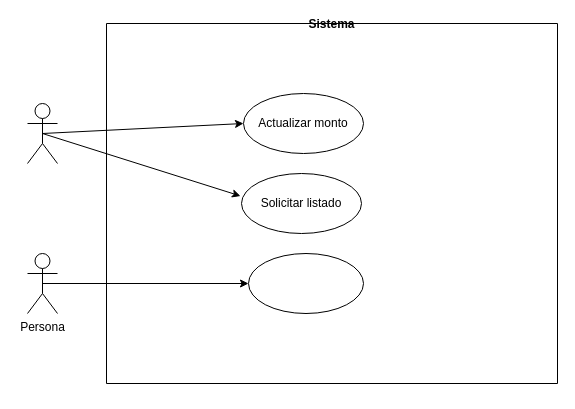
Image size: 575x409. Some labels were removed from this diagram. The shapes that lost their labels are listed below. From the top down, each one's centre as x and y in pixels, then its label:
At [42,133]: "Operador".
At [306,283]: "Reciclar material".
